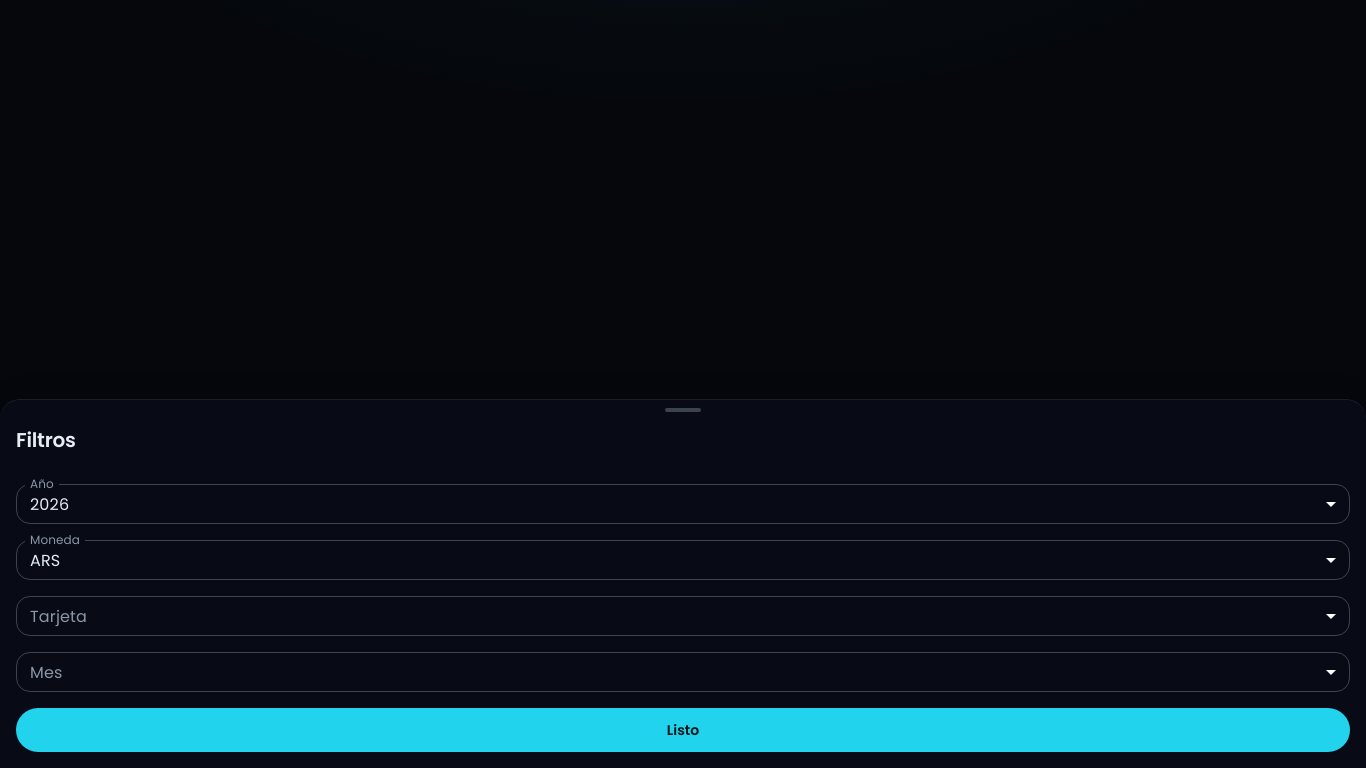
it: FiltersSheet › elegir una opción escribe en la URL al momento y no cierra la hoja
The image size is (1366, 768).
Click the dropdown named "moneda" at [45, 560], box [30,548,60,572]
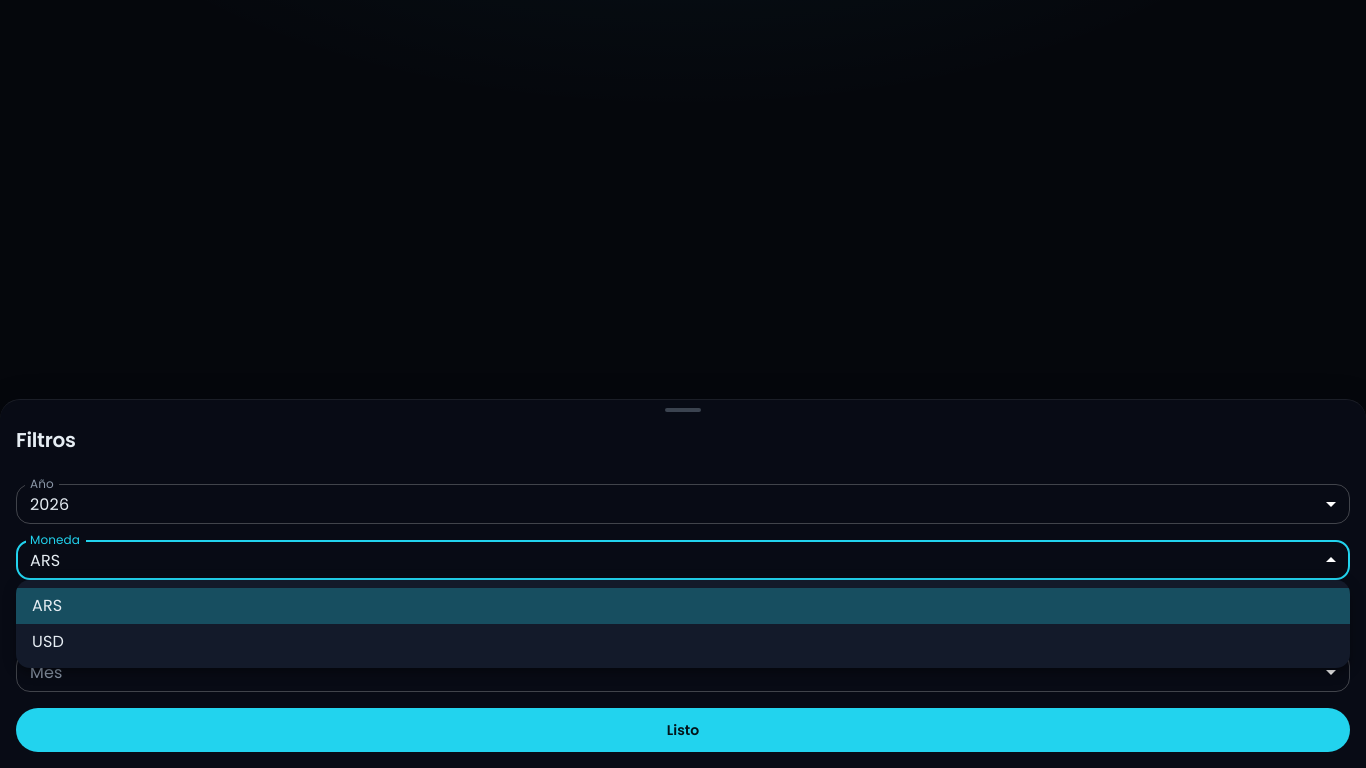
Click the option "USD" at [48, 642], box [32,630,64,653]
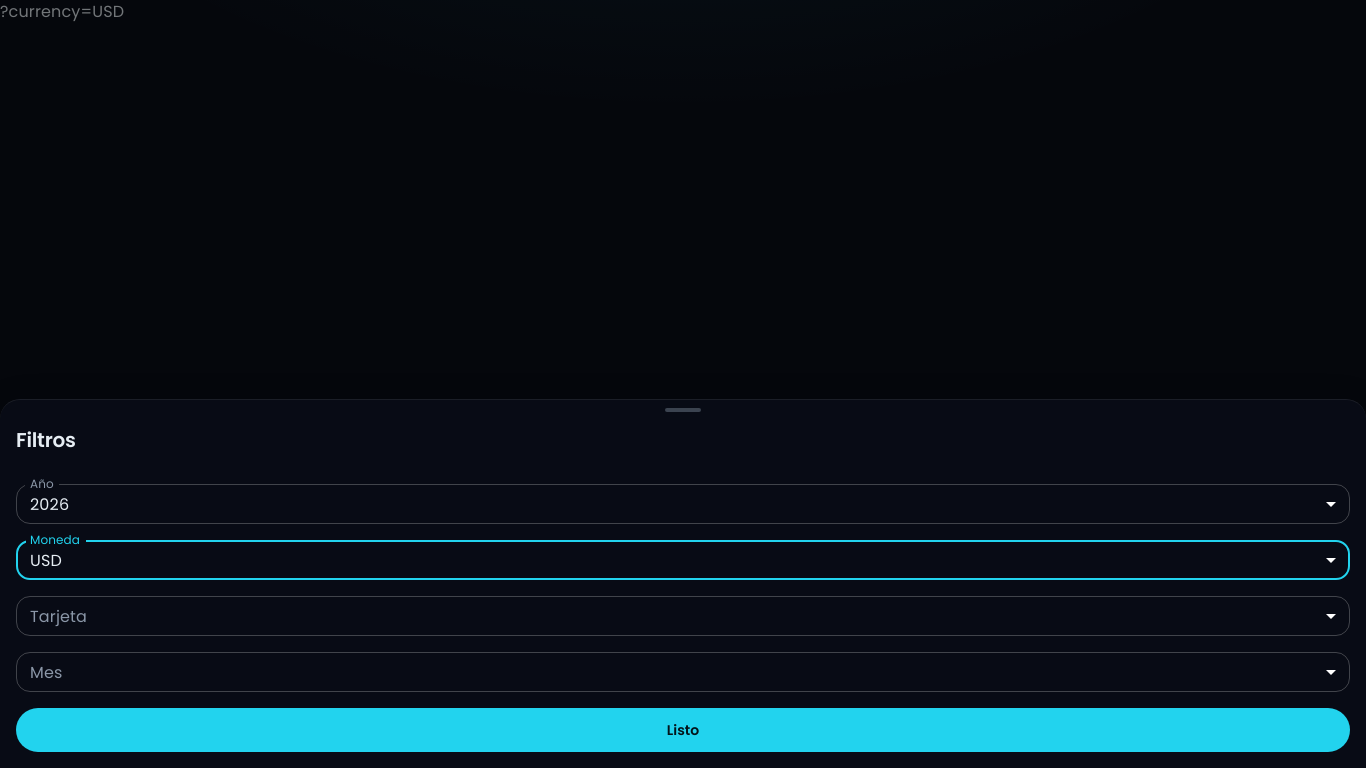
Expected: the dialog "Filtros" is shown, [0,399,1365,767]
Expected: the dropdown named "moneda" reads "USD", [30,548,62,572]
